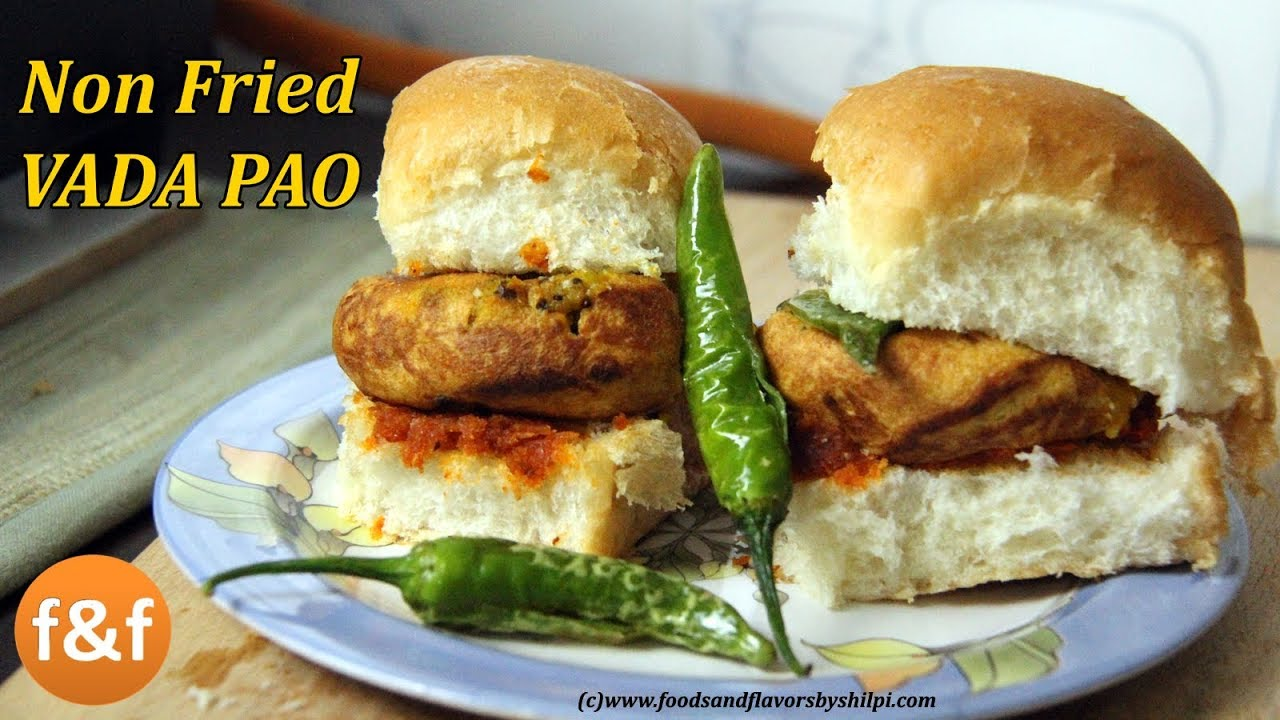vada pav: (849, 104, 1142, 572), (395, 94, 661, 536)
